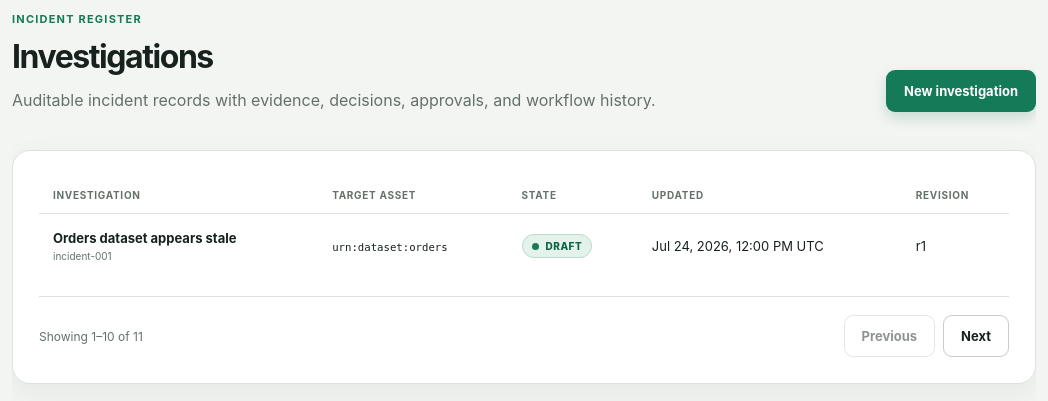
Test case: investigations list › requests the next bounded page
Expected: the text "Orders dataset appears stale" is shown, [53,230,236,246]
Click the button "Next": (976, 336) [943,315,1009,357]
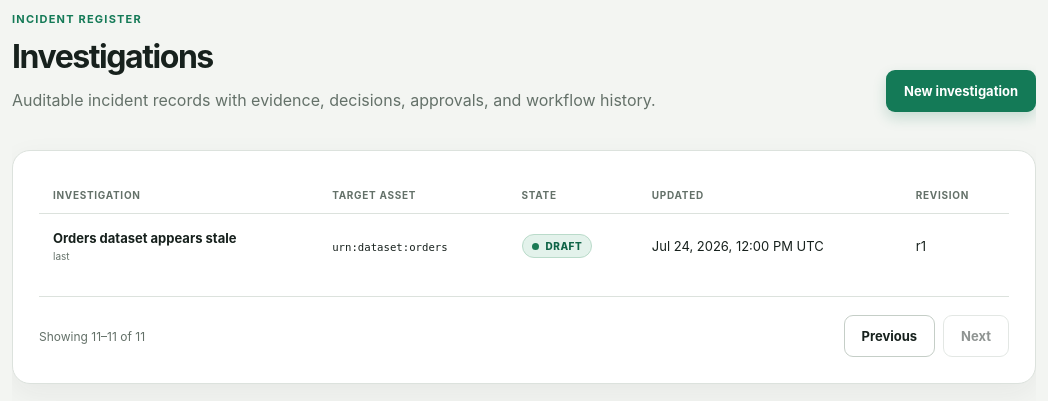
Expected: the text "Showing 11–11 of 11" is shown, [39,329,145,344]
